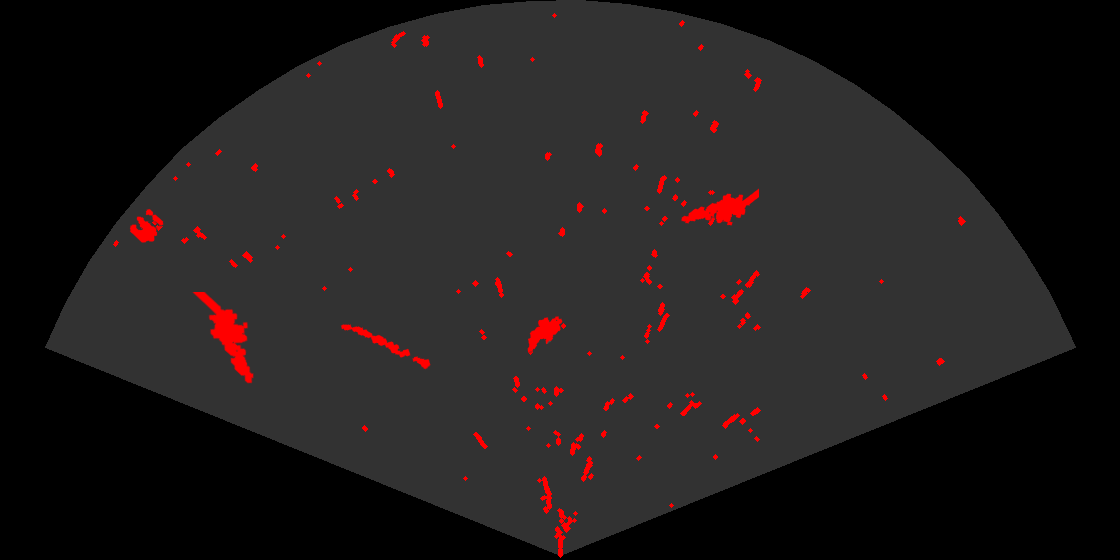AUV: (526, 315, 564, 354)
ball: (128, 207, 165, 244)
chain: (340, 323, 432, 371)
frogman: (191, 292, 255, 385), (680, 187, 759, 227)
